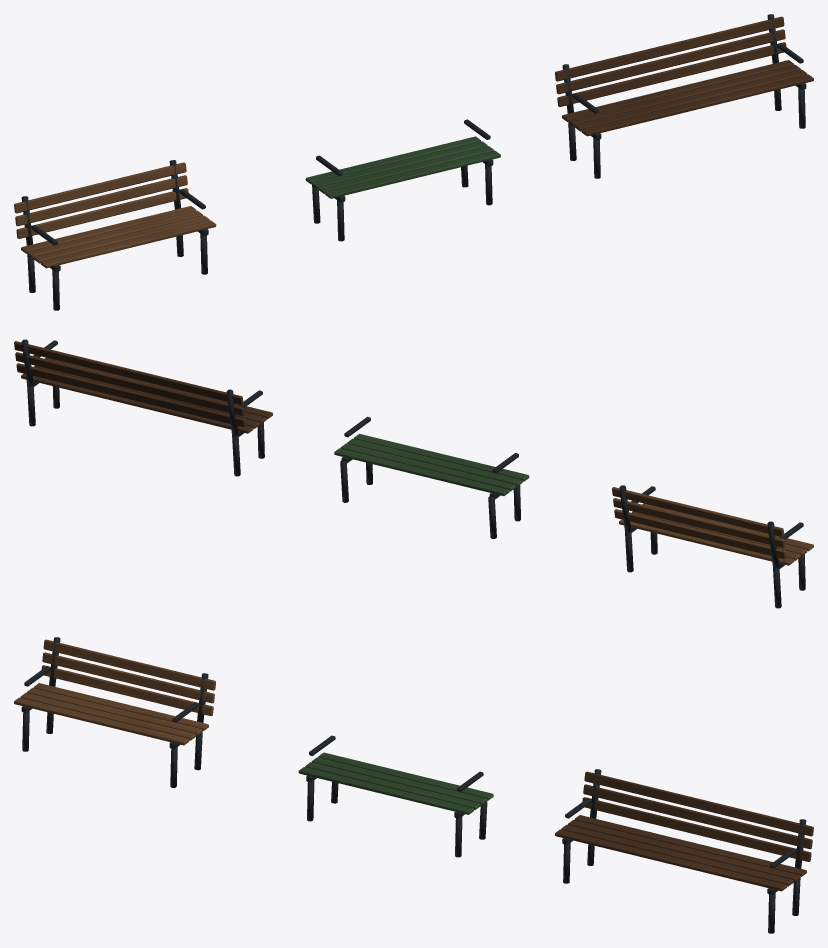
The model's file is bench.glb.
3 renders of one model, top to bottom at view 1: azimuth 30°, elevation 25°; view 2: azimuth 150°, elevation 25°; view 3: azimuth 330°, elevation 25°, orthographic.
Visible parts, largest first — view 1: bench_v3, bench_v1, bench_v2; view 2: bench_v3, bench_v1, bench_v2; view 3: bench_v3, bench_v1, bench_v2.
Boxes of the visible parts, x1,y1,x2,y2 form: bench_v3: [555, 14, 813, 178]; bench_v1: [14, 160, 216, 310]; bench_v2: [305, 119, 500, 241]; bench_v3: [14, 339, 272, 476]; bench_v1: [612, 485, 813, 608]; bench_v2: [334, 416, 529, 538]; bench_v3: [555, 769, 813, 933]; bench_v1: [14, 637, 215, 787]; bench_v2: [298, 735, 493, 857].
Size of the model in its own units: 8.1 by 0.909 by 0.6394.
Materials: 2 (2 with a texture image).
